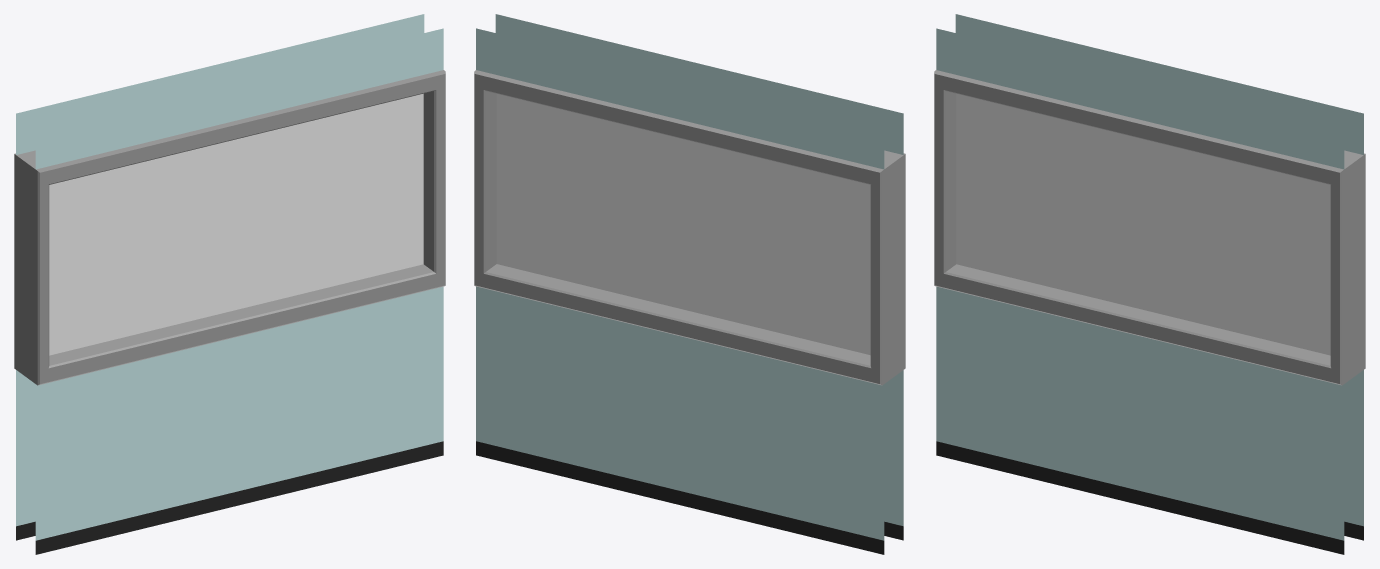
File: interiorWindowWall_line_3.fbx
3 views of the same model, side by side, from view 1: azimuth 30°, elevation 25°; view 2: azimuth 150°, elevation 25°; view 3: azimuth 330°, elevation 25° (orthographic).
Visible parts, largest first — view 1: wall, glassWall; view 2: wall, glassWall; view 3: wall, glassWall.
Boxes of the visible parts, x1,y1,x2,y2 form: wall: (14,14,445,554); glassWall: (49,93,423,355); wall: (474,14,905,554); glassWall: (496,94,870,355); wall: (934,14,1365,554); glassWall: (956,93,1330,355).
Bounding box in the file's own units: 300 × 300 × 31.96.
